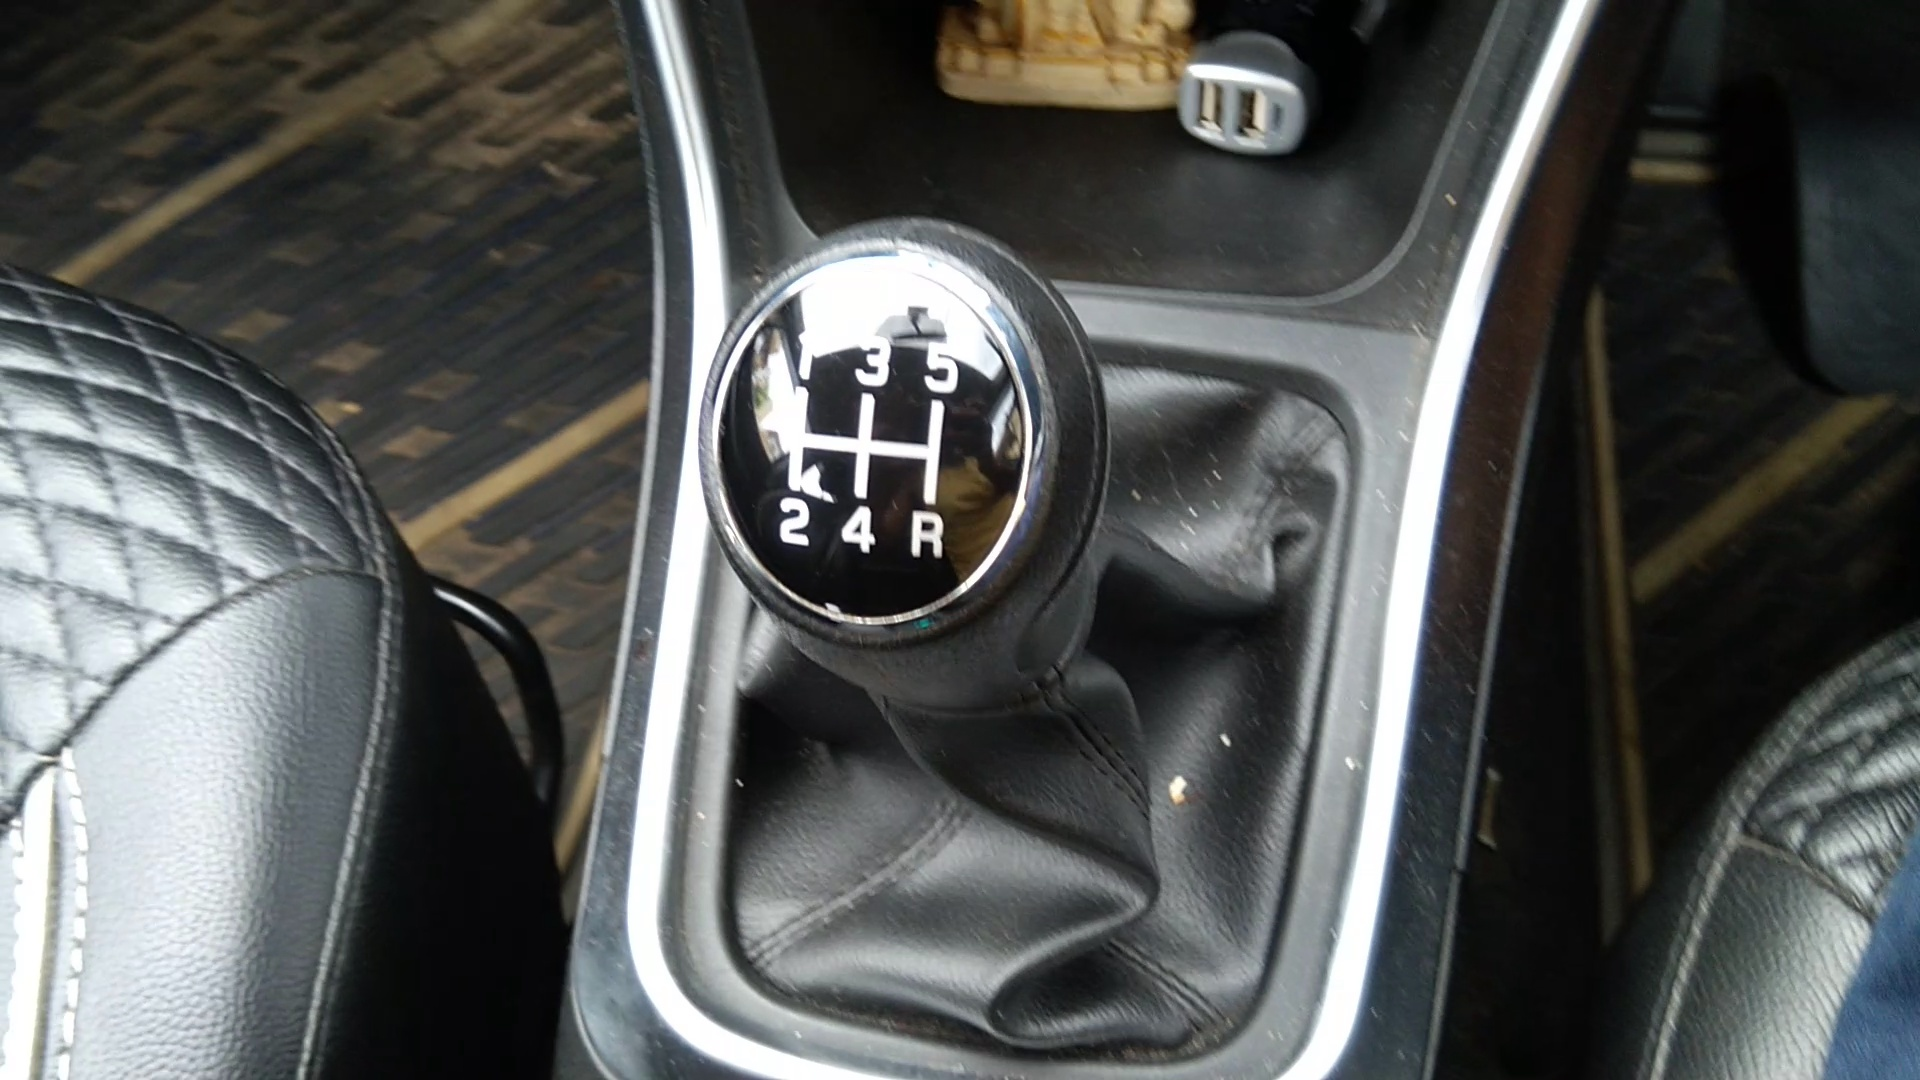manual_gear: (691, 220, 1116, 737)
